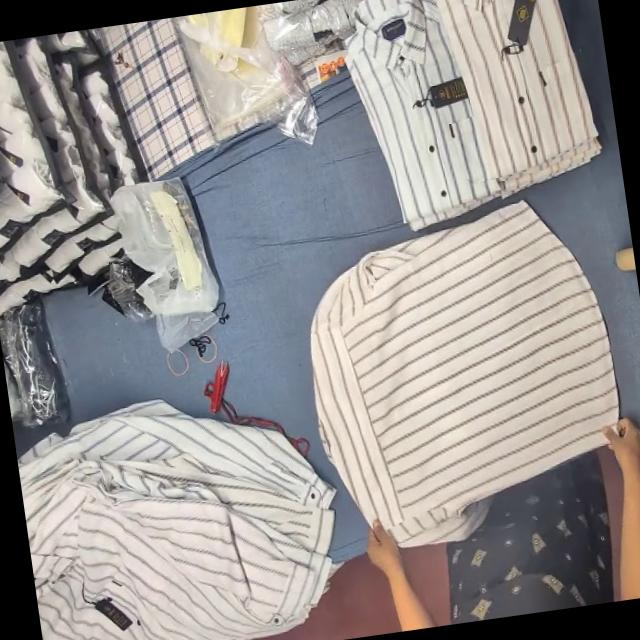new-garment: (311, 201, 617, 545)
